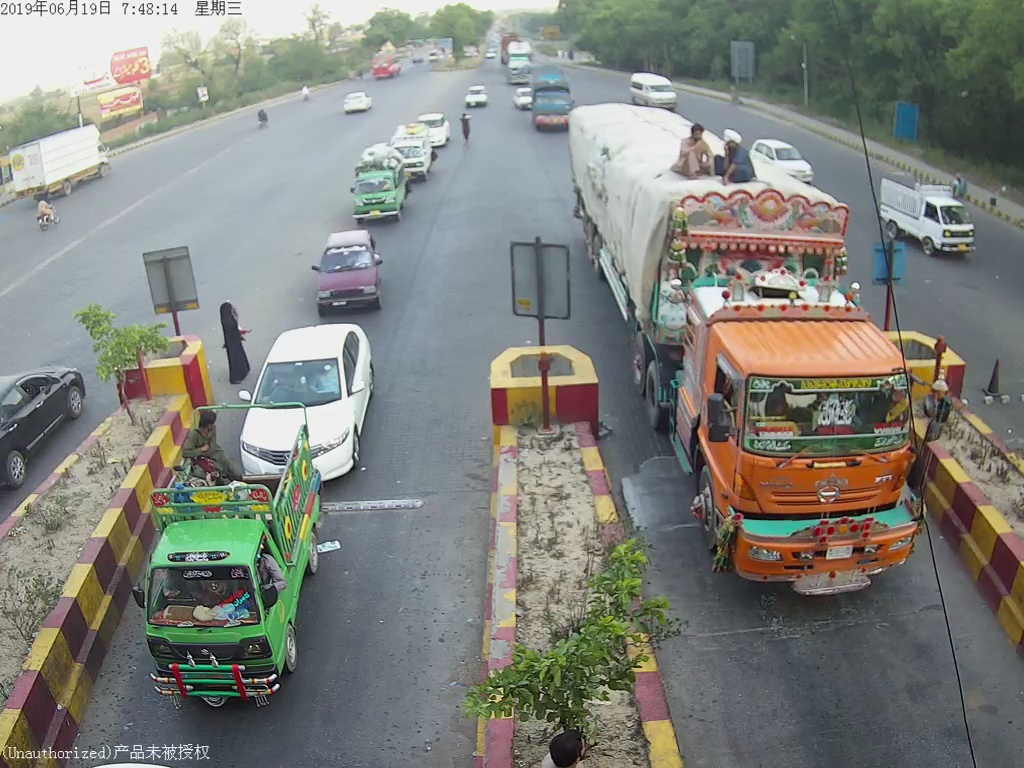Cat-1: (133, 412, 328, 701), (237, 322, 376, 481), (308, 225, 394, 318), (337, 148, 411, 220), (386, 123, 435, 183)
Cat-2: (523, 68, 576, 136)
Cat-5: (572, 97, 931, 591)
